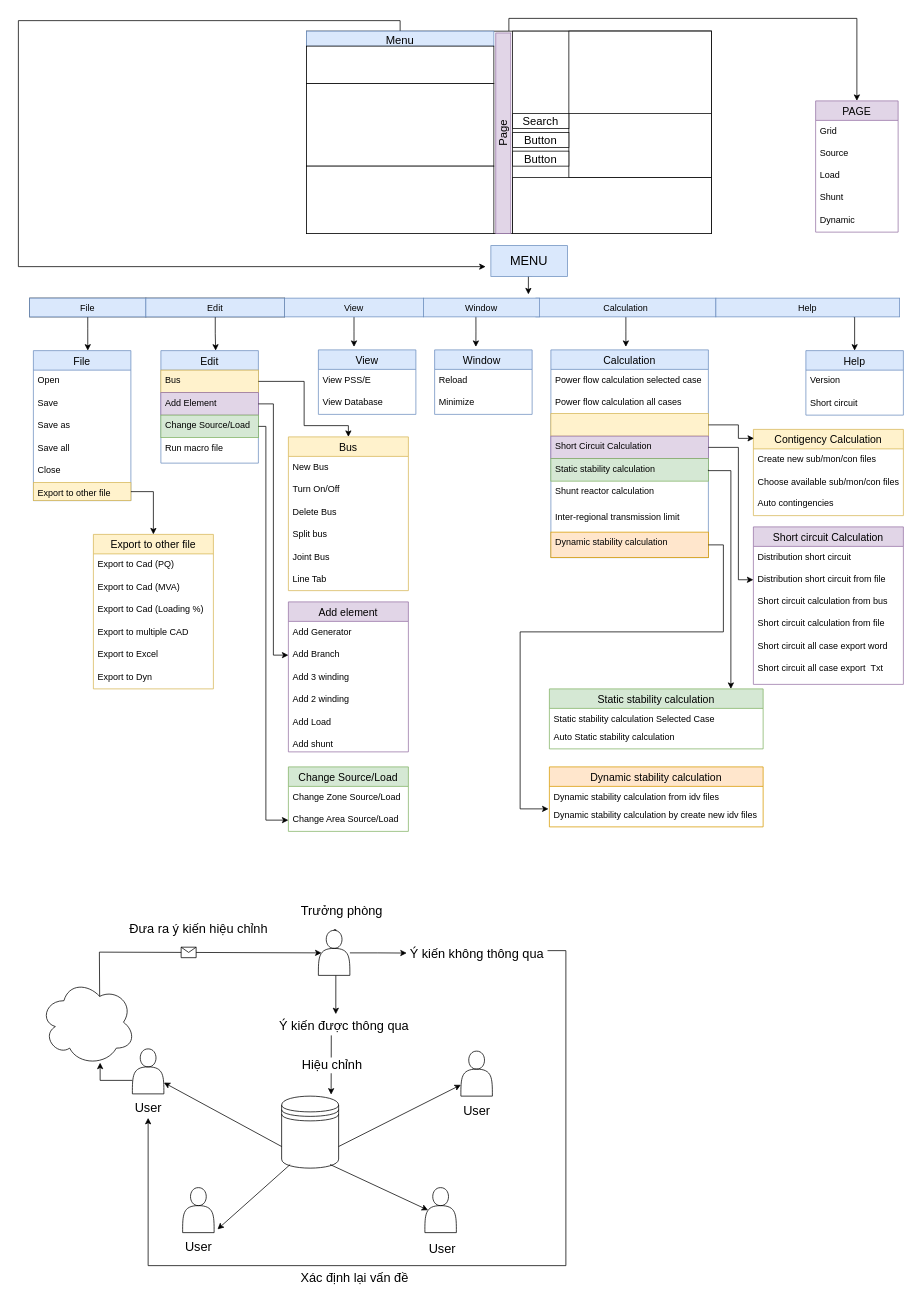
The diagram is 917 pixels wide and 1301 high, and some of its shapes have lost their labels. The shapes that lost their labels are listed below. From the top down, each one's centre as x and y in pixels, then its label:
the point at 400,64: Files information
the point at 639,73: Branch/2 winding/3 winding information
the point at 400,124: Area Information
the point at 639,145: Bus information
the point at 400,199: Zone Information
the point at 611,205: Terminal
the point at 629,424: Contingency Calculation
the point at 87,1021: Ý kiến hiệu chỉnh CSDL
the point at 310,1131: CSDL
